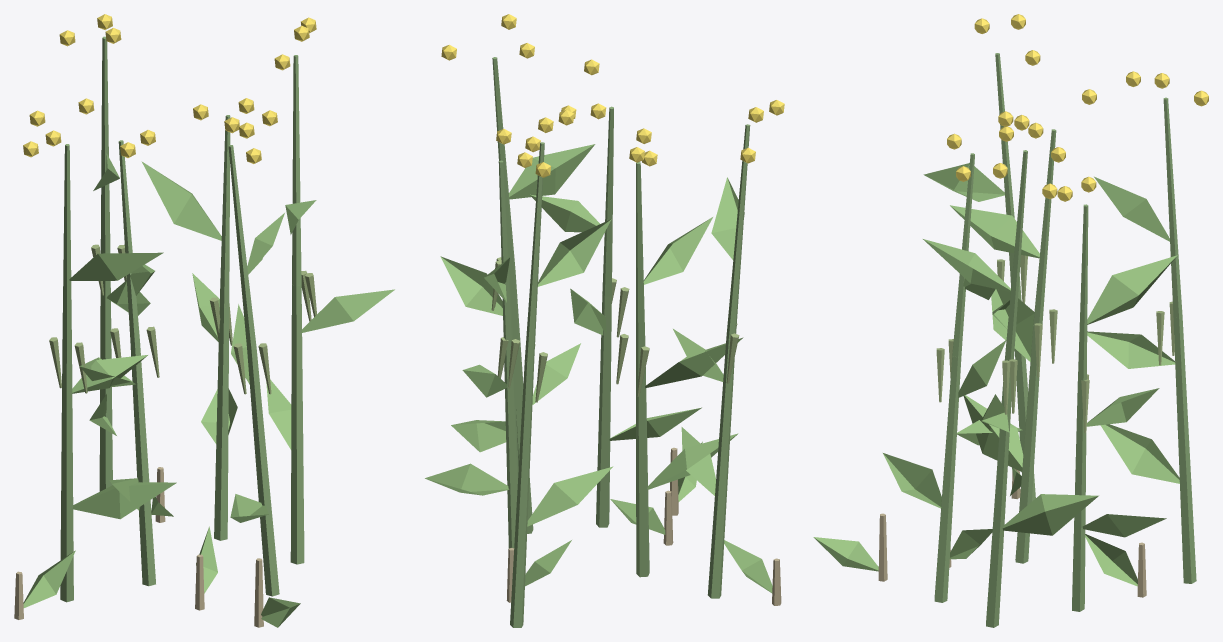
Rendered from plant-rapeseed-a_lod1.glb.
The picture shows the model from 3 angles, left to right: view 1: azimuth 30°, elevation 25°; view 2: azimuth 150°, elevation 25°; view 3: azimuth 270°, elevation 25°; orthographic projection.
Visible parts, largest first — view 1: plant-rapeseed-a_full_stemGreen, plant-rapeseed-a_full_leafB, plant-rapeseed-a_fruit_rapeFlower, plant-rapeseed-a_fruit_rapePod, plant-rapeseed-a_low_leafB, plant-rapeseed-a_low_stemDry; view 2: plant-rapeseed-a_full_leafB, plant-rapeseed-a_full_stemGreen, plant-rapeseed-a_fruit_rapeFlower, plant-rapeseed-a_low_leafB, plant-rapeseed-a_fruit_rapePod, plant-rapeseed-a_low_stemDry; view 3: plant-rapeseed-a_full_leafB, plant-rapeseed-a_full_stemGreen, plant-rapeseed-a_fruit_rapeFlower, plant-rapeseed-a_low_leafB, plant-rapeseed-a_fruit_rapePod, plant-rapeseed-a_low_stemDry.
Boxes of the visible parts, box(x1,y1,x2,y2) form: plant-rapeseed-a_full_stemGreen: box(60, 36, 304, 602); plant-rapeseed-a_full_leafB: box(69, 153, 394, 522); plant-rapeseed-a_fruit_rapeFlower: box(23, 14, 316, 163); plant-rapeseed-a_fruit_rapePod: box(49, 244, 316, 394); plant-rapeseed-a_low_leafB: box(23, 497, 300, 627); plant-rapeseed-a_low_stemDry: box(14, 467, 263, 627); plant-rapeseed-a_full_leafB: box(425, 144, 744, 526); plant-rapeseed-a_full_stemGreen: box(492, 57, 750, 627); plant-rapeseed-a_fruit_rapeFlower: box(441, 14, 784, 177); plant-rapeseed-a_low_leafB: box(525, 441, 772, 593); plant-rapeseed-a_fruit_rapePod: box(491, 257, 739, 402); plant-rapeseed-a_low_stemDry: box(506, 447, 781, 605); plant-rapeseed-a_full_leafB: box(883, 163, 1179, 537); plant-rapeseed-a_full_stemGreen: box(934, 53, 1196, 627); plant-rapeseed-a_fruit_rapeFlower: box(947, 14, 1208, 201); plant-rapeseed-a_low_leafB: box(813, 467, 1137, 586); plant-rapeseed-a_fruit_rapePod: box(936, 255, 1174, 433); plant-rapeseed-a_low_stemDry: box(878, 468, 1146, 597).
Size of the model in its own units: 0.9844 by 1.37 by 0.9457.
